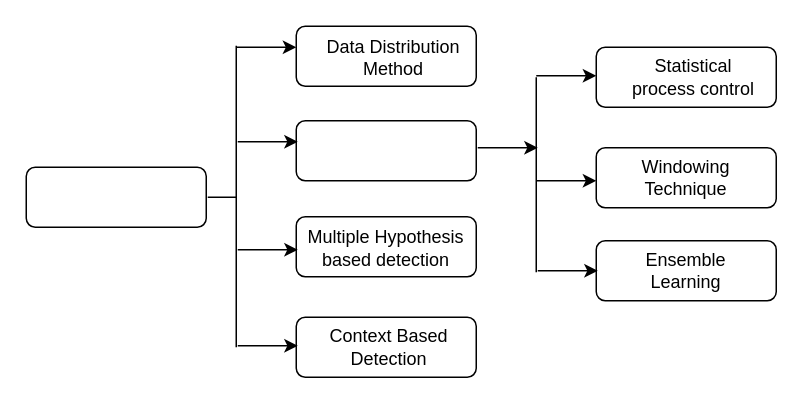
Image size: 803x404. Some labels were removed from this diagram. The shapes that lost their labels are listed below. From the top down, each one's box as (x1, y1, x2, y2) in pixels, then its label:
(295, 119, 476, 181): Performance based Method
(25, 166, 206, 227): Concept Drift Detection Methods
